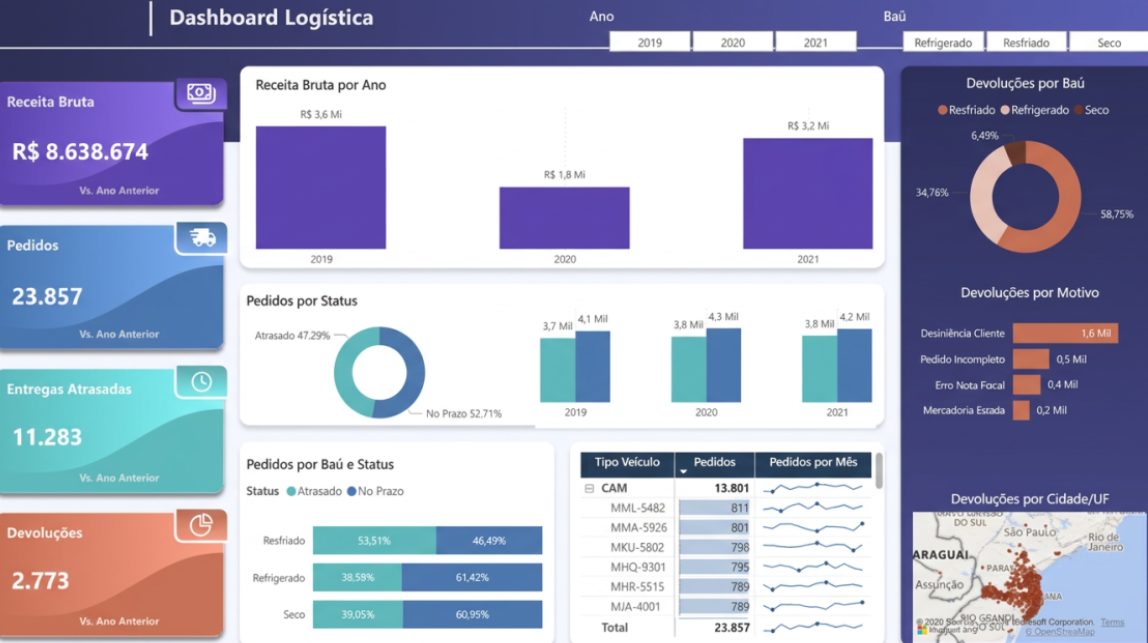

Layout of this report page (visuals, bound fields, positions):
{"tool":"powerbi","page":{"name":"Geral","canvas":[1280,720],"ordinal":1},"visuals":[{"type":"multiRowCard","fields":{"Values":["Fretes.Receita Bruta"]},"box":[31.1,131.1,220,64.4],"z":0},{"type":"columnChart","fields":{"Category":["Fretes.Data Pedido.Variation.Hierarquia de datas.Ano","Fretes.Data Pedido.Variation.Hierarquia de datas.Trimestre","Fretes.Data Pedido.Variation.Hierarquia de datas.Mês","Fretes.Data Pedido.Variation.Hierarquia de datas.Dia"],"Y":["Fretes.Receita Bruta"]},"box":[292.5,73.8,671.2,212.5],"z":1000},{"type":"donutChart","fields":{"Y":["Fretes.Pedidos"],"Category":["Fretes.Status"]},"box":[283.3,303.3,294.4,154.4],"z":2000},{"type":"clusteredColumnChart","fields":{"Category":["Fretes.Data Pedido.Variation.Hierarquia de datas.Ano","Fretes.Data Pedido.Variation.Hierarquia de datas.Trimestre","Fretes.Data Pedido.Variation.Hierarquia de datas.Mês","Fretes.Data Pedido.Variation.Hierarquia de datas.Dia"],"Y":["Fretes.Pedidos"],"Series":["Fretes.Status"]},"box":[597.8,304.4,365.6,144.4],"z":3000},{"type":"hundredPercentStackedBarChart","fields":{"Category":["CadastroVeiculo.Baú"],"Series":["Fretes.Status"],"Y":["Fretes.Pedidos"]},"box":[283.5,477,327,207],"z":4000},{"type":"clusteredBarChart","title":"Devoluções por Motivo","fields":{"Category":["Fretes.Devolução"],"Y":["Fretes.Pedidos"]},"box":[997.5,295,261.2,162.5],"z":5000},{"type":"donutChart","title":"Devoluções por Baú","fields":{"Y":["Fretes.Pedidos"],"Category":["CadastroVeiculo.Baú"]},"box":[987.5,71.2,271.2,215],"z":6000},{"type":"map","title":"Devoluções por Cidade/UF","fields":{"Category":["Fretes.UF","Fretes.Cidade"],"Size":["Fretes.Pedidos"]},"box":[997.5,476.2,261.2,207.5],"z":7000},{"type":"multiRowCard","fields":{"Values":["Fretes.Pedidos"]},"box":[31.1,286.7,220,64.4],"z":8000},{"type":"multiRowCard","fields":{"Values":["Fretes.Pedidos"]},"box":[31.1,436.7,220,64.4],"z":9000},{"type":"multiRowCard","fields":{"Values":["Fretes.Pedidos"]},"box":[31.1,588.9,220,64.4],"z":10000},{"type":"pivotTable","fields":{"Rows":["CadastroVeiculo.Tipo Veículo","CadastroVeiculo.Placa"],"Values":["Fretes.Pedidos","SparklineData(Fretes.Pedidos_[Fretes.Data Pedido.Variation.Hierarquia de datas.Mês])"]},"box":[640.5,469.5,334.5,207],"z":11000},{"type":"slicer","title":"Ano","fields":{"Values":["Fretes.Data Pedido.Variation.Hierarquia de datas.Ano"]},"box":[651,0,315,48],"z":11001},{"type":"slicer","title":"Baú","fields":{"Values":["CadastroVeiculo.Baú"]},"box":[964.5,0,315,48],"z":11002}]}

Visuals, with their boxes in screenshot pixels (x1, y1, x2, y2), scaled from the page's 1280x720 canvas onto the 1148x643 screenshot:
multiRowCard - Fretes.Receita Bruta: [x1=28, y1=117, x2=225, y2=175]
columnChart - Fretes.Data Pedido.Variation.Hierarquia de datas.Ano x Fretes.Data Pedido.Variation.Hierarquia de datas.Trimestre: [x1=262, y1=66, x2=864, y2=256]
donutChart - Fretes.Pedidos x Fretes.Status: [x1=254, y1=271, x2=518, y2=409]
clusteredColumnChart - Fretes.Data Pedido.Variation.Hierarquia de datas.Ano x Fretes.Data Pedido.Variation.Hierarquia de datas.Trimestre: [x1=536, y1=272, x2=864, y2=401]
hundredPercentStackedBarChart - CadastroVeiculo.Baú x Fretes.Status: [x1=254, y1=426, x2=548, y2=611]
"Devoluções por Motivo" clusteredBarChart: [x1=895, y1=263, x2=1129, y2=409]
"Devoluções por Baú" donutChart: [x1=886, y1=64, x2=1129, y2=256]
"Devoluções por Cidade/UF" map: [x1=895, y1=425, x2=1129, y2=611]
multiRowCard - Fretes.Pedidos: [x1=28, y1=256, x2=225, y2=314]
multiRowCard - Fretes.Pedidos: [x1=28, y1=390, x2=225, y2=448]
multiRowCard - Fretes.Pedidos: [x1=28, y1=526, x2=225, y2=583]
pivotTable - CadastroVeiculo.Tipo Veículo x CadastroVeiculo.Placa: [x1=574, y1=419, x2=874, y2=604]
"Ano" slicer: [x1=584, y1=0, x2=866, y2=43]
"Baú" slicer: [x1=865, y1=0, x2=1147, y2=43]
